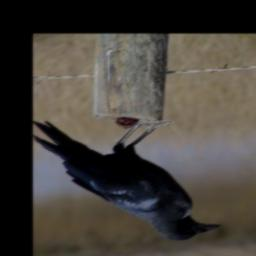Crow: (34, 117, 224, 244)
